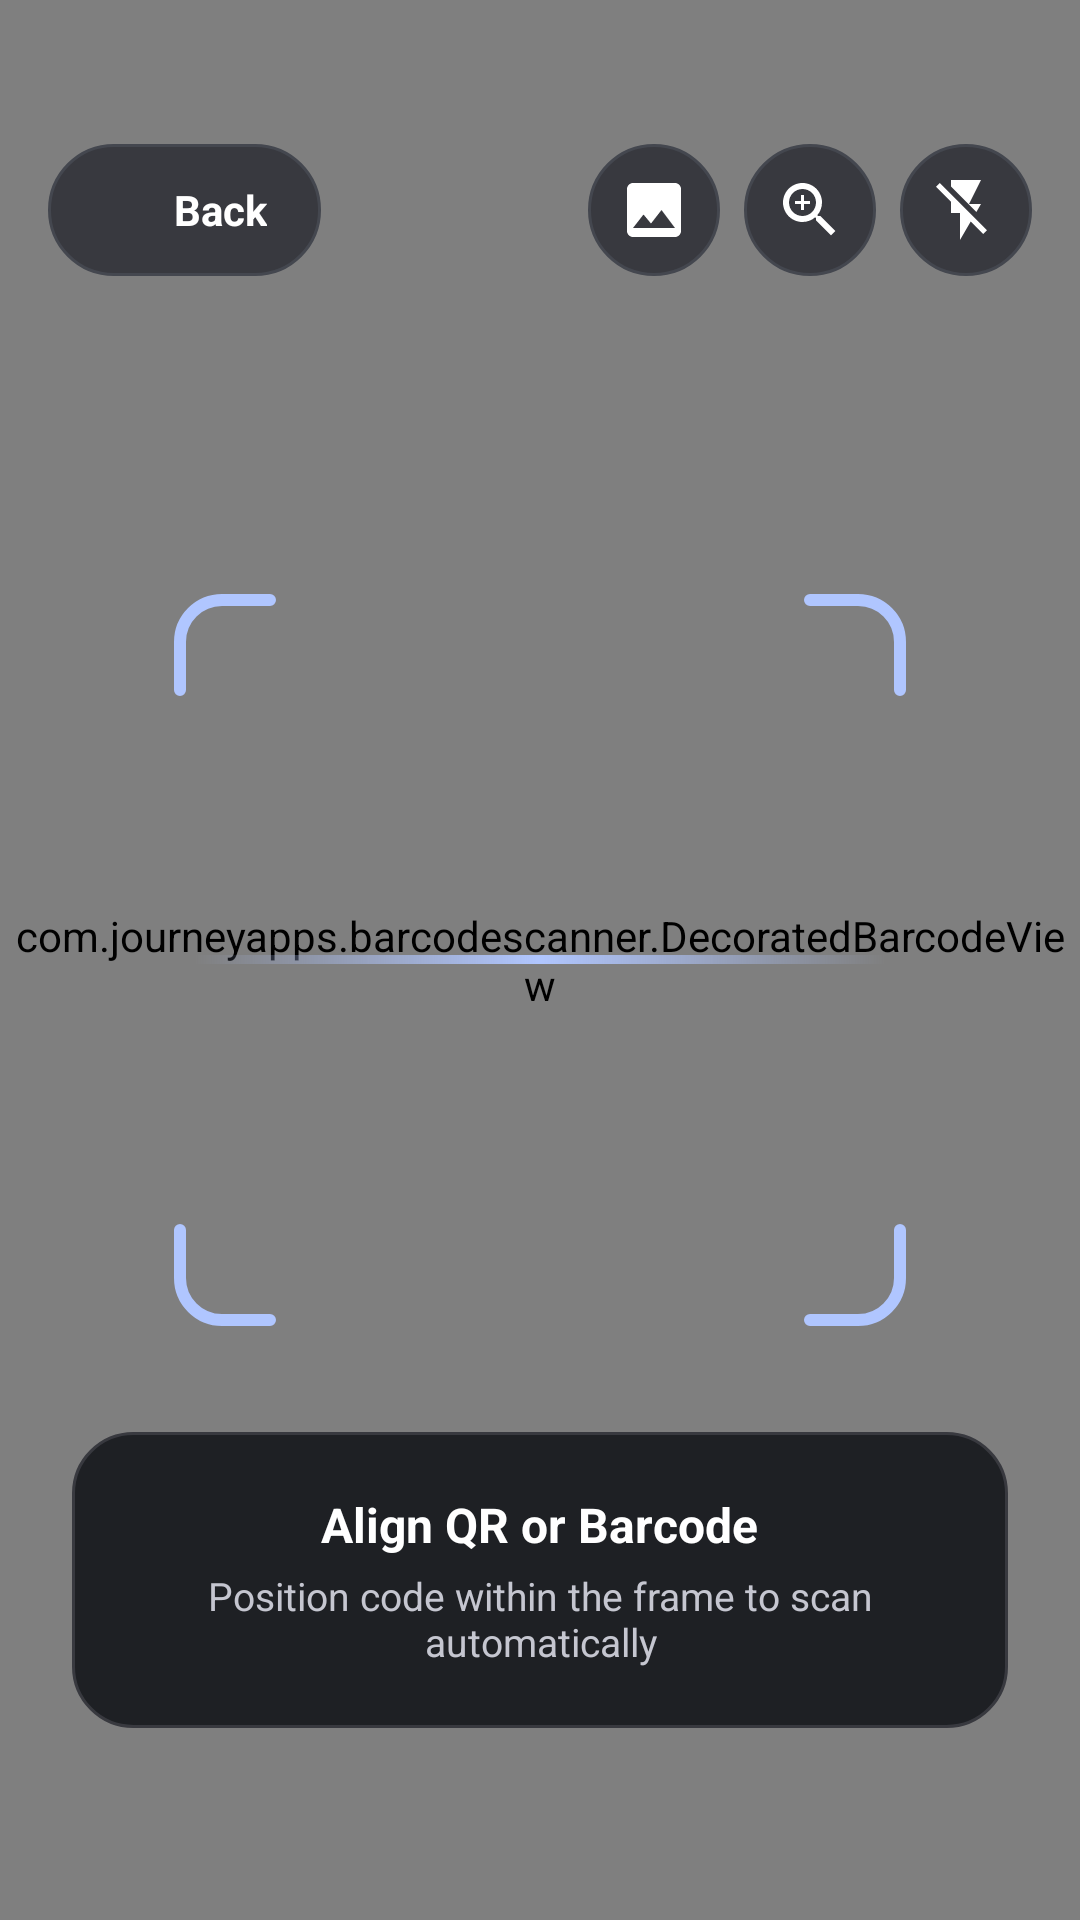

Screen size 1080×1920. Icon name, then its box in pixels as {"x1": x1, "y1": y1, "x2": x2, "y2": y2}:
Scan from Gallery: {"x1": 588, "y1": 144, "x2": 720, "y2": 276}
Toggle Flashlight: {"x1": 900, "y1": 144, "x2": 1032, "y2": 276}
Toggle Zoom: {"x1": 744, "y1": 144, "x2": 876, "y2": 276}
